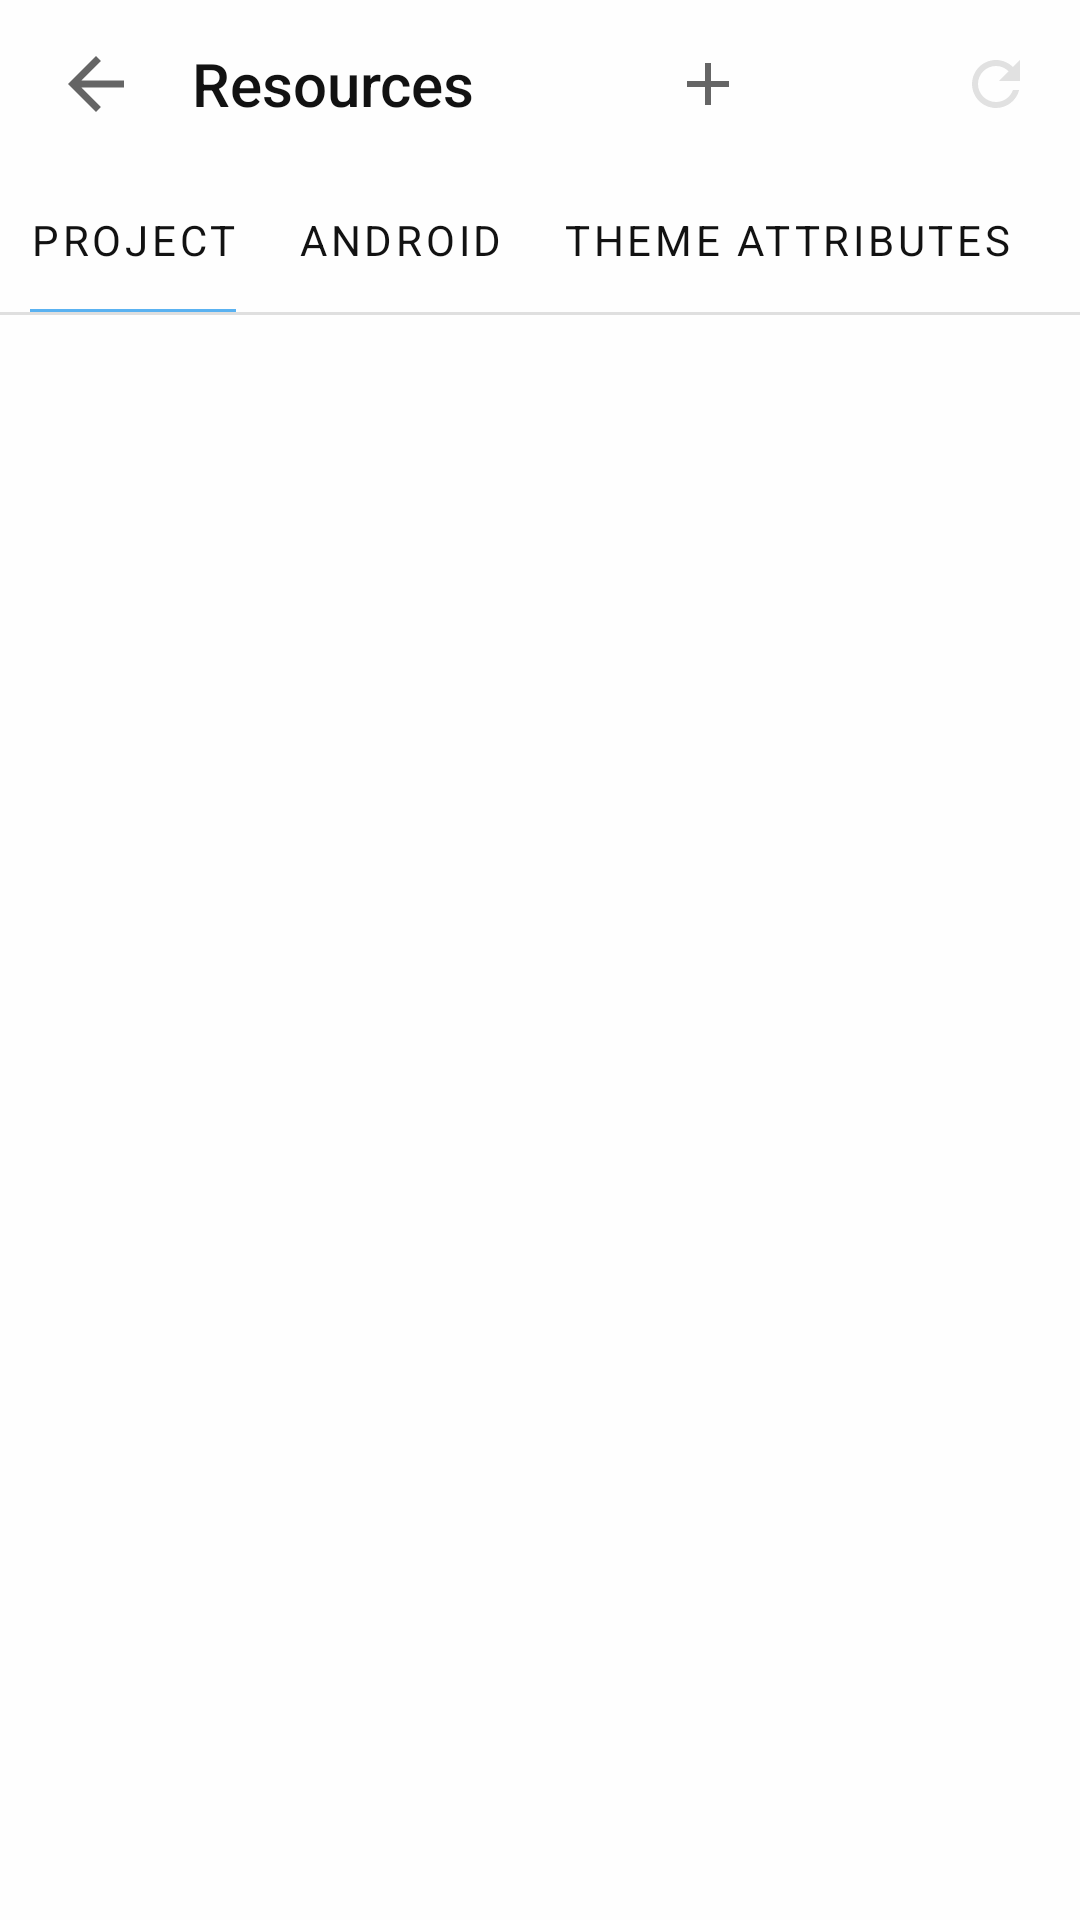

Icons on this 1080×1920 Android screen, each with its box as bbox=(x1, y1, x2, y2):
add: bbox=(687, 63, 729, 105)
back: bbox=(68, 56, 124, 112)
refresh: bbox=(972, 60, 1020, 108)
